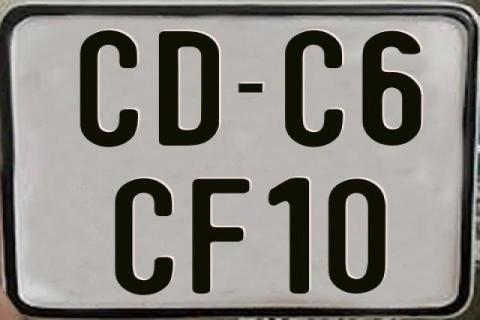0: (360, 29, 422, 149), (328, 177, 390, 295), (268, 177, 314, 297)
C: (282, 31, 346, 150), (113, 176, 173, 295), (77, 31, 136, 151)
D: (159, 31, 219, 148)
F: (192, 178, 250, 294)
